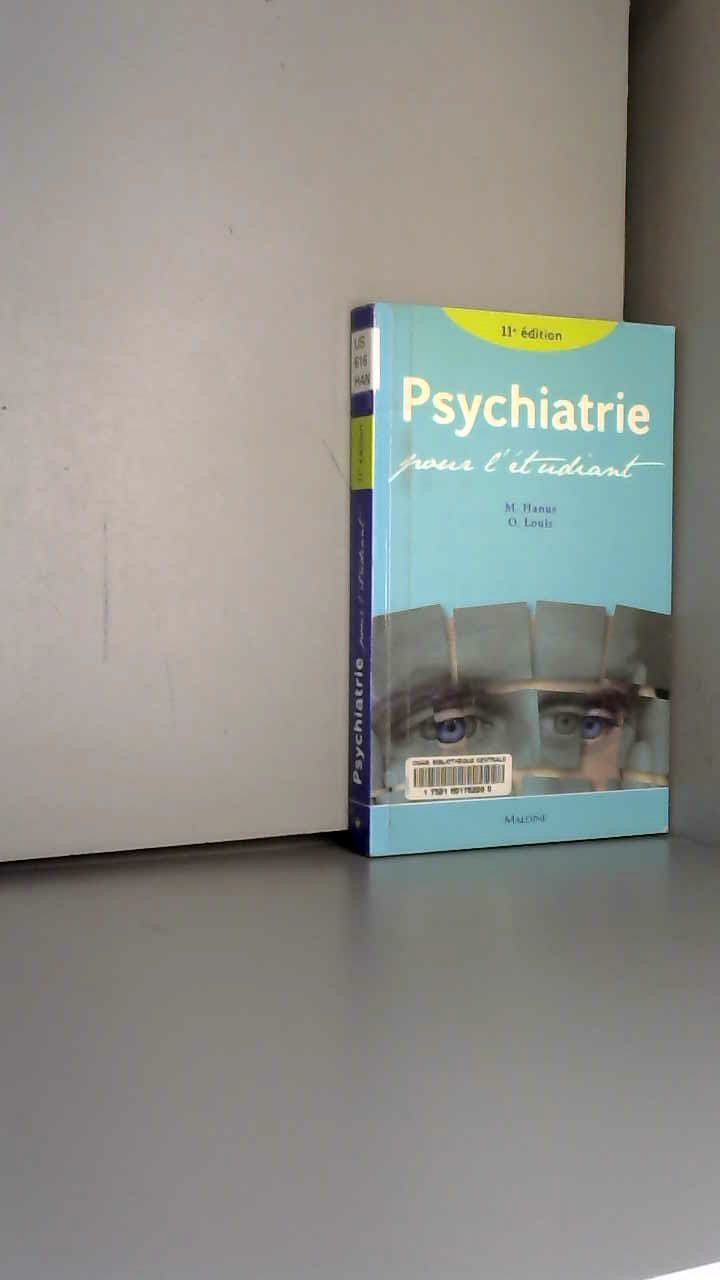book: (320, 270, 718, 883)
